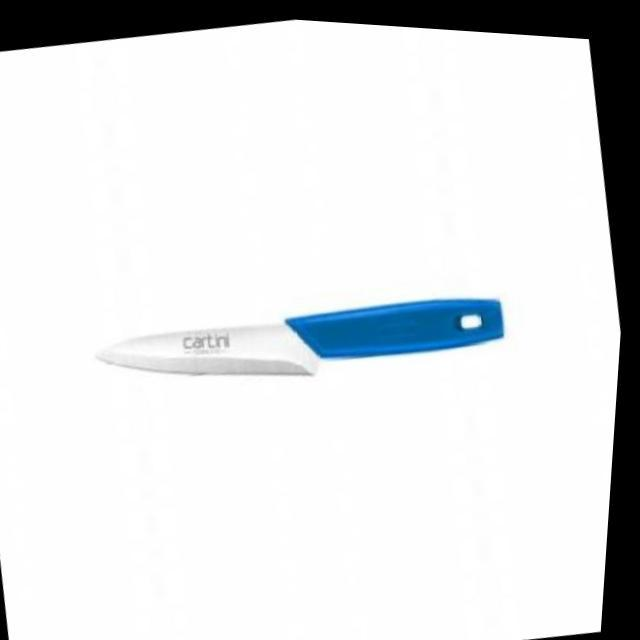weapon: (93, 261, 516, 418)
